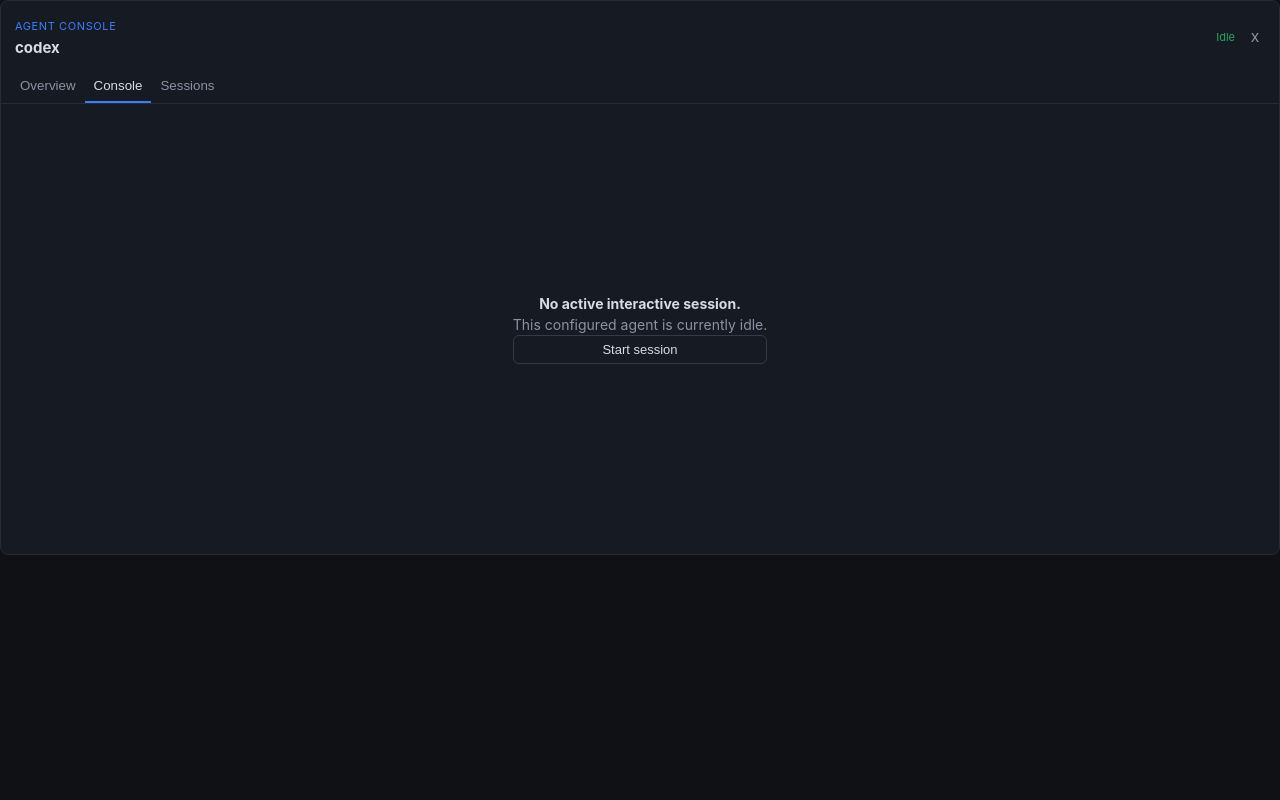
Test: Agent Console › starts a scoped interactive session on explicit user action
The width and height of the screenshot is (1280, 800).
Click the button "Start session" at (640, 350), box [513,335,767,364]
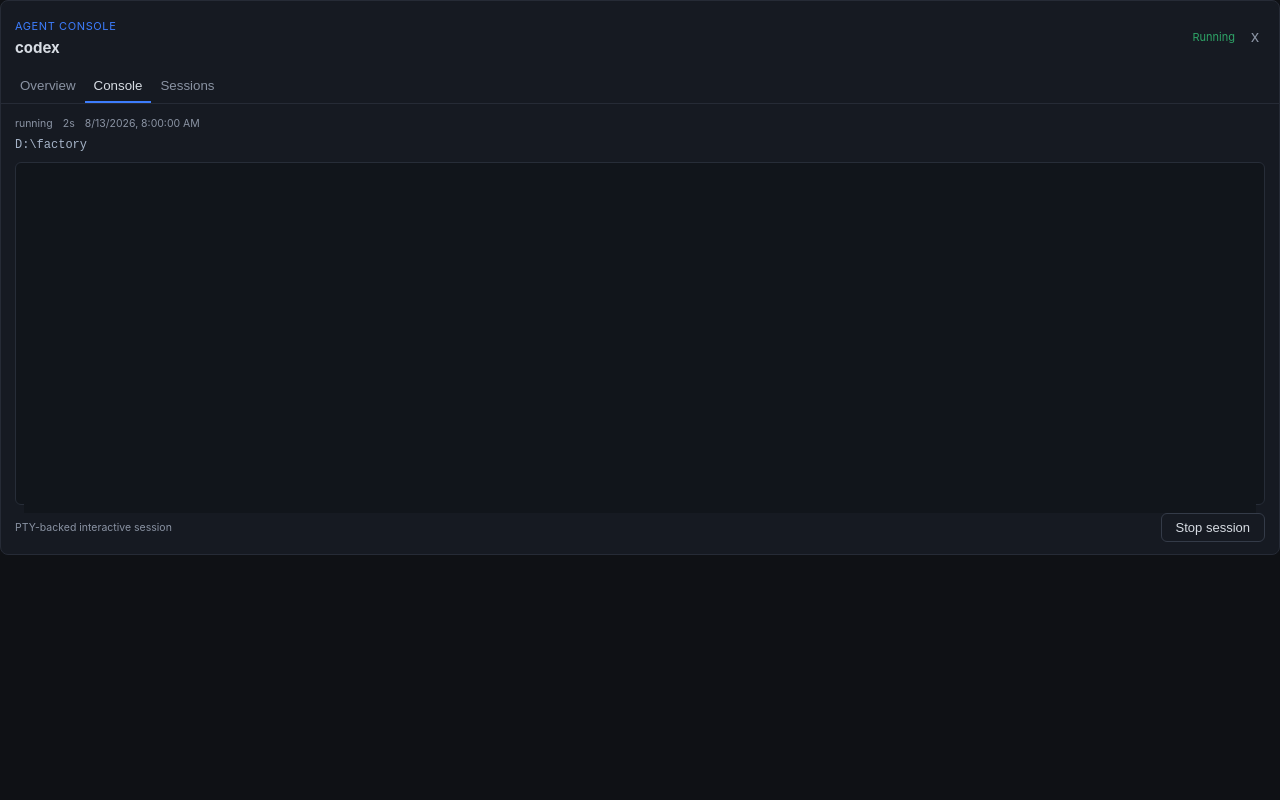
Expected: the element named "Interactive terminal" is shown, [15,162,1265,505]
